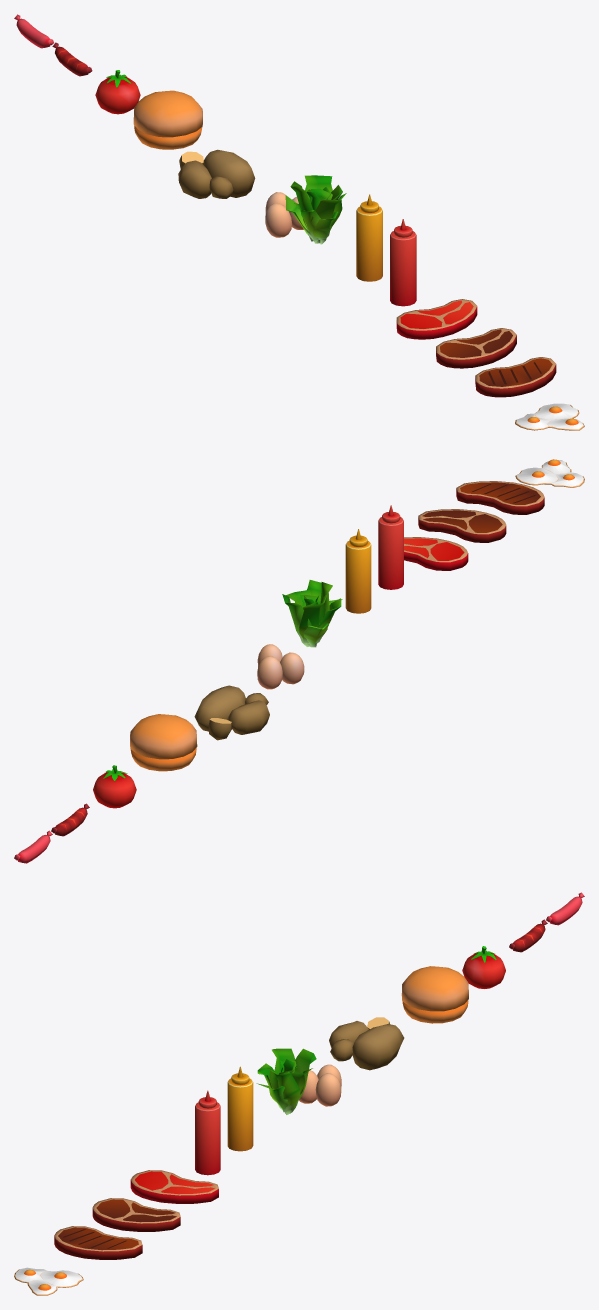
File: Foodstuff.fbx
3 views of the same model, one above another, from view 1: azimuth 30°, elevation 25°; view 2: azimuth 150°, elevation 25°; view 3: azimuth 330°, elevation 25° (orthographic). The views are drawn at different scales.
Parts seen in each view (by area): view 1: Bun, Potato, Salad, Stake, Stake Cooked 2, Stake Cooked, Mustard, Sause, Tomato, Eggs Cooked, Eggs, Sousage Coocked (+1 smaller); view 2: Bun, Potato, Salad, Stake Cooked 2, Stake Cooked, Mustard, Sause, Stake, Eggs, Tomato, Eggs Cooked, Sousage Coocked (+1 smaller); view 3: Bun, Potato, Stake, Stake Cooked, Stake Cooked 2, Salad, Mustard, Sause, Tomato, Eggs, Eggs Cooked, Sousage (+1 smaller).
Part boxes in pixels (<box>): Bun: <box>133,90,202,149</box>; Potato: <box>178,149,255,198</box>; Salad: <box>285,175,346,244</box>; Stake: <box>396,299,477,339</box>; Stake Cooked 2: <box>475,357,556,397</box>; Stake Cooked: <box>436,328,516,368</box>; Mustard: <box>356,194,382,281</box>; Sause: <box>390,219,416,306</box>; Tomato: <box>95,70,140,114</box>; Eggs Cooked: <box>515,403,584,430</box>; Eggs: <box>265,192,303,237</box>; Sousage Coocked: <box>52,42,92,76</box>; Bun: <box>130,714,197,771</box>; Potato: <box>194,685,269,740</box>; Salad: <box>282,580,342,647</box>; Stake Cooked 2: <box>456,481,544,514</box>; Stake Cooked: <box>418,509,506,542</box>; Mustard: <box>345,529,371,613</box>; Sause: <box>378,505,403,589</box>; Stake: <box>404,537,468,570</box>; Eggs: <box>257,644,304,689</box>; Tomato: <box>93,765,136,808</box>; Eggs Cooked: <box>515,459,584,487</box>; Sousage Coocked: <box>51,803,89,836</box>; Bun: <box>401,966,468,1023</box>; Potato: <box>329,1017,404,1070</box>; Stake: <box>130,1170,218,1203</box>; Stake Cooked: <box>92,1198,180,1231</box>; Stake Cooked 2: <box>54,1226,142,1259</box>; Salad: <box>256,1048,316,1114</box>; Mustard: <box>227,1066,253,1151</box>; Sause: <box>195,1090,220,1175</box>; Tomato: <box>462,946,505,988</box>; Eggs: <box>299,1064,341,1106</box>; Eggs Cooked: <box>14,1267,83,1295</box>; Sousage: <box>546,892,584,925</box>.
Size of the model in its own units: 0.8476 by 0.9414 by 9.55.
